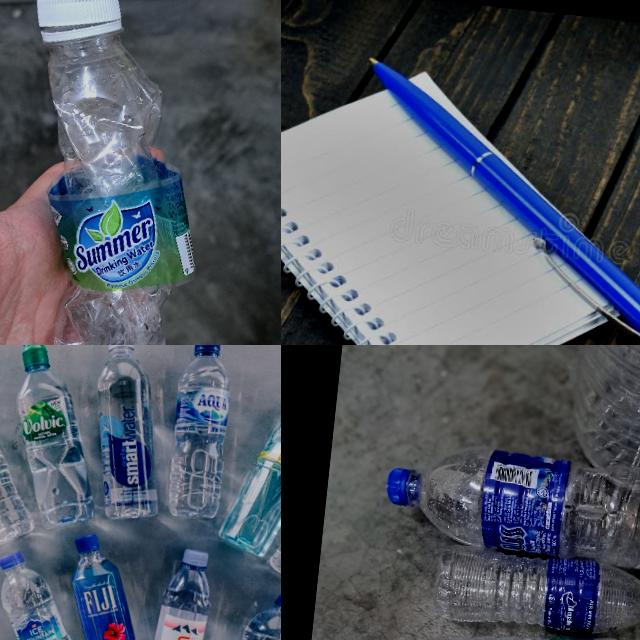garrafa plástica: (0, 31, 221, 345), (402, 439, 640, 581), (429, 542, 640, 640), (0, 362, 108, 531), (79, 345, 176, 524), (165, 350, 238, 522), (563, 345, 640, 506), (214, 389, 281, 564), (60, 547, 148, 640), (0, 566, 103, 640), (0, 394, 48, 551), (140, 560, 214, 640), (198, 597, 281, 640)
papel: (281, 46, 640, 345)
tampa plástica: (31, 0, 131, 44), (384, 466, 413, 506), (20, 345, 51, 372), (179, 544, 210, 570), (73, 528, 102, 554), (0, 545, 25, 571), (192, 345, 222, 356), (105, 345, 136, 355), (275, 590, 281, 615)
